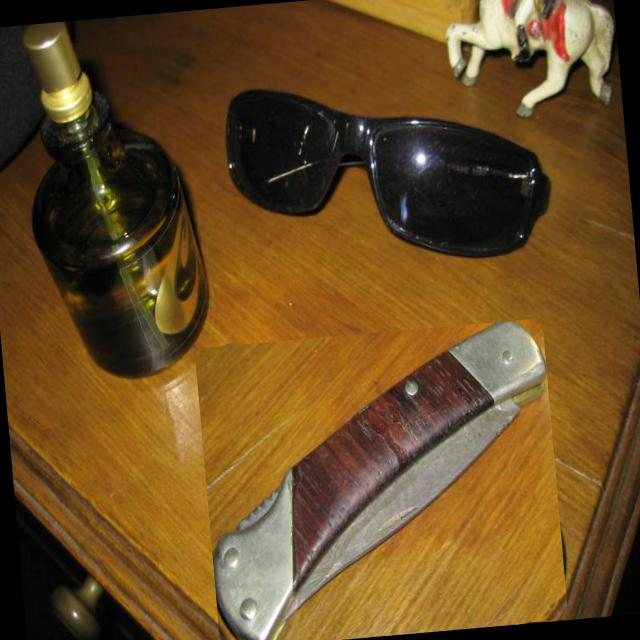Knife: (213, 321, 546, 640)
